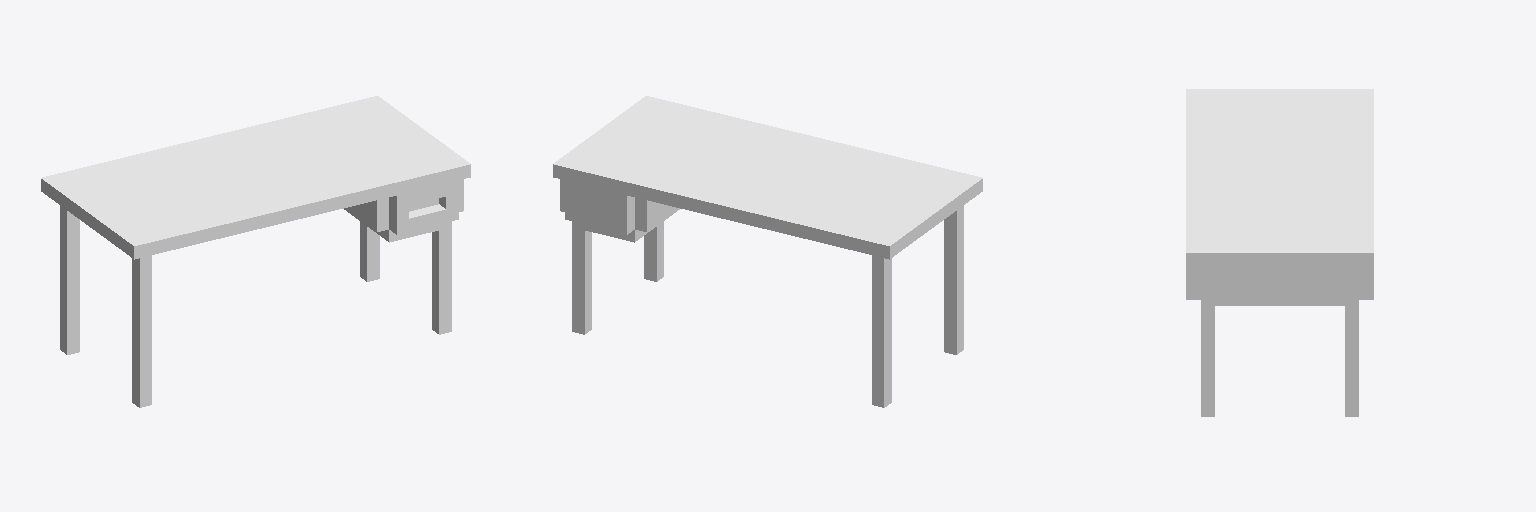
The model's file is Decor-51.obj.
The picture shows the model from 3 angles: view 1: azimuth 30°, elevation 25°; view 2: azimuth 150°, elevation 25°; view 3: azimuth 270°, elevation 25°; orthographic projection.
Parts seen in each view (by area): view 1: object 1; view 2: object 1; view 3: object 1.
Boxes of the visible parts, box(x1,y1,x2,y2) form: object 1: box(41, 96, 470, 407); object 1: box(553, 96, 982, 407); object 1: box(1186, 89, 1373, 416).
Size of the model in its own units: 2.7 by 1.3 by 1.3.